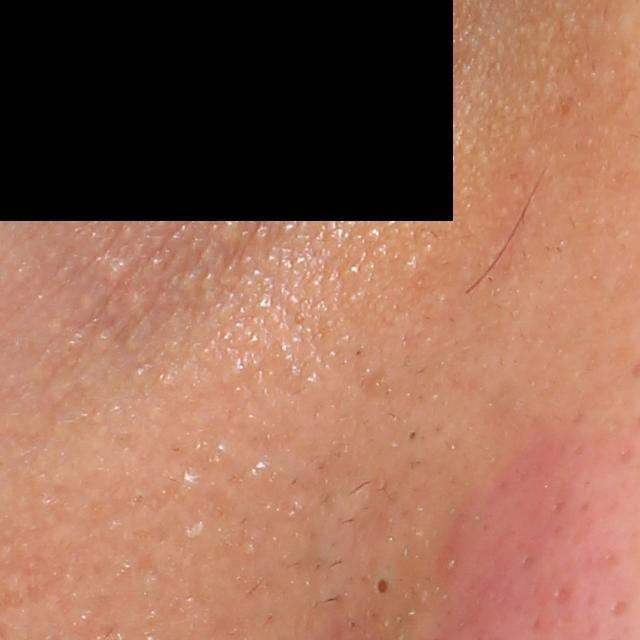comedo: (370, 571, 395, 600)
